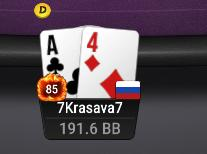4d: (82, 28, 138, 97)
Ac: (38, 29, 82, 98)
